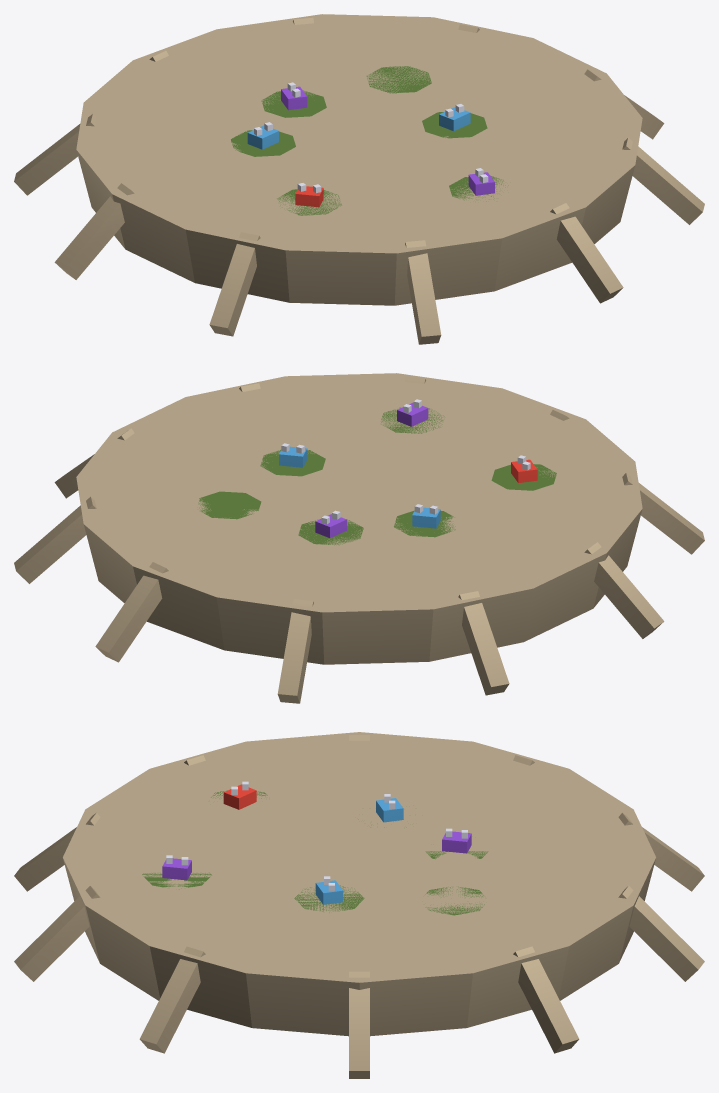
File: glow_pool.glb
3 views of the same model, one above another, from view 1: azimuth 30°, elevation 25°; view 2: azimuth 150°, elevation 25°; view 3: azimuth 270°, elevation 25° (orthographic). The views are drawn at different scales.
Parts seen in each view (by area): view 1: glow_pool; view 2: glow_pool; view 3: glow_pool.
Part boxes in pixels (<box>): glow_pool: <box>14,14,704,344</box>; glow_pool: <box>14,373,704,703</box>; glow_pool: <box>14,732,704,1078</box>.
Size of the model in its own units: 4.49 by 0.6383 by 4.31.
